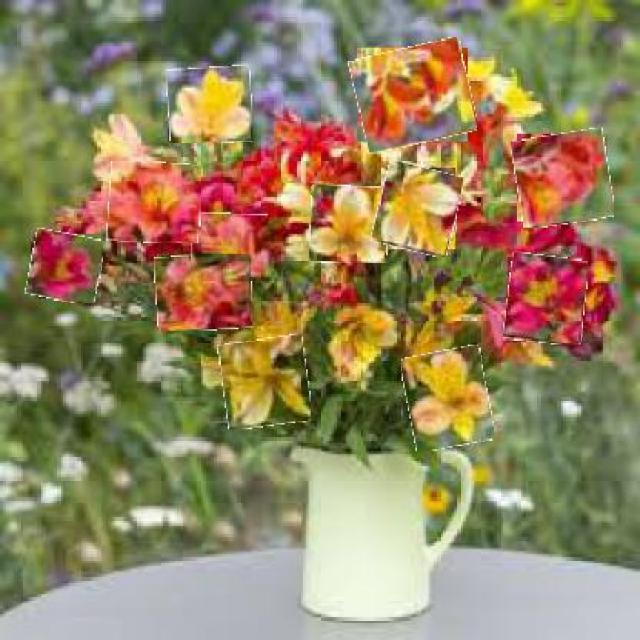Flower: (352, 43, 474, 149), (514, 131, 612, 226), (405, 348, 492, 449), (220, 338, 311, 429), (376, 165, 461, 256), (108, 162, 202, 244), (156, 252, 253, 331), (506, 256, 588, 345), (167, 67, 253, 144), (311, 185, 389, 264), (29, 232, 103, 303), (192, 213, 269, 278)
